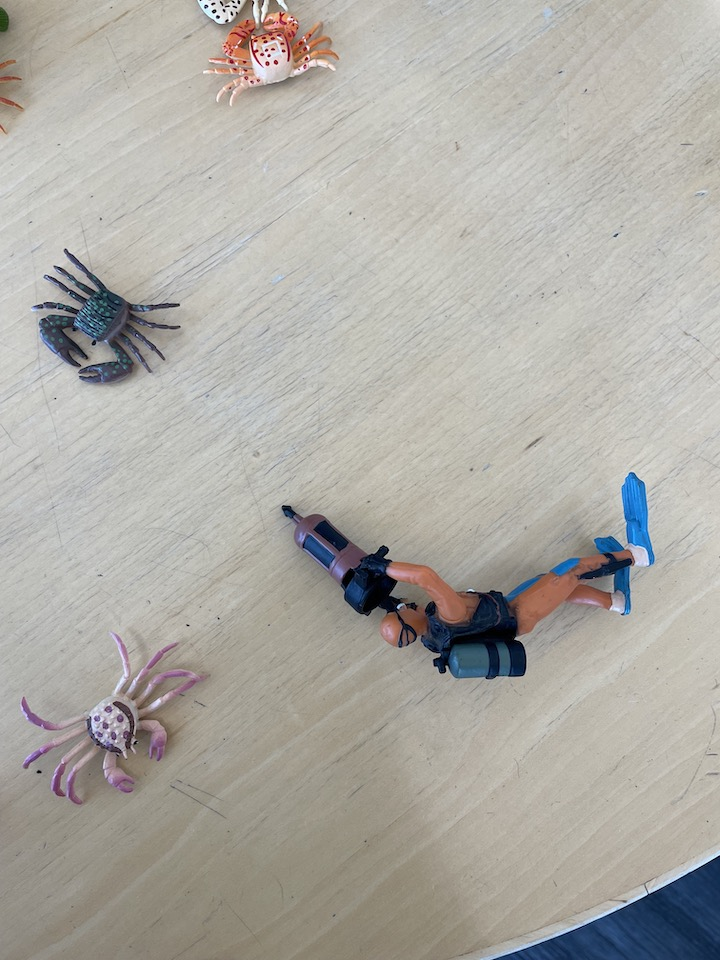crab: (21, 620, 212, 813), (30, 243, 181, 392), (200, 13, 341, 105), (186, 1, 295, 33), (1, 48, 24, 137)
diver: (274, 468, 661, 688)
